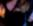with_mask: (1, 1, 33, 26)
